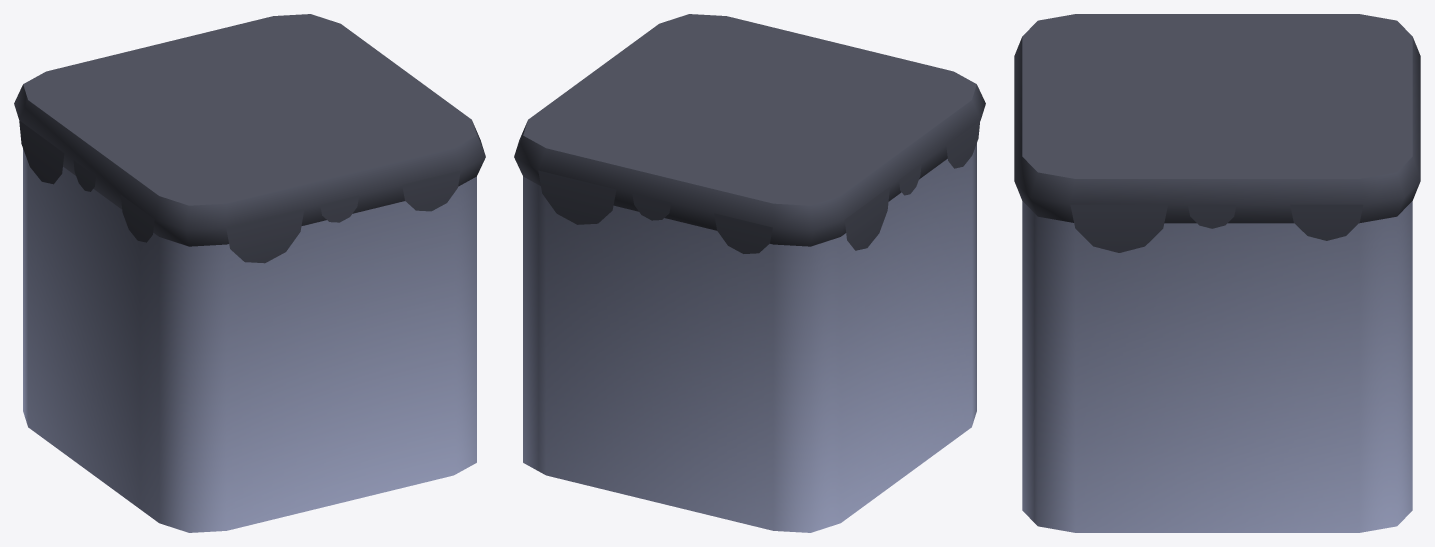
The model's file is block-snow-overhang-large-tall.glb.
3 views of the same model, side by side, from view 1: azimuth 30°, elevation 25°; view 2: azimuth 150°, elevation 25°; view 3: azimuth 270°, elevation 25° (orthographic). The views are drawn at different scales.
Parts seen in each view (by area): view 1: block-snow-overhang-large-tall; view 2: block-snow-overhang-large-tall; view 3: block-snow-overhang-large-tall.
Boxes of the visible parts, x1,y1,x2,y2 form: block-snow-overhang-large-tall: (14,14,485,532); block-snow-overhang-large-tall: (514,14,985,532); block-snow-overhang-large-tall: (1014,14,1420,532).
Bounding box in the file's own units: 2.08 × 2 × 2.08.
